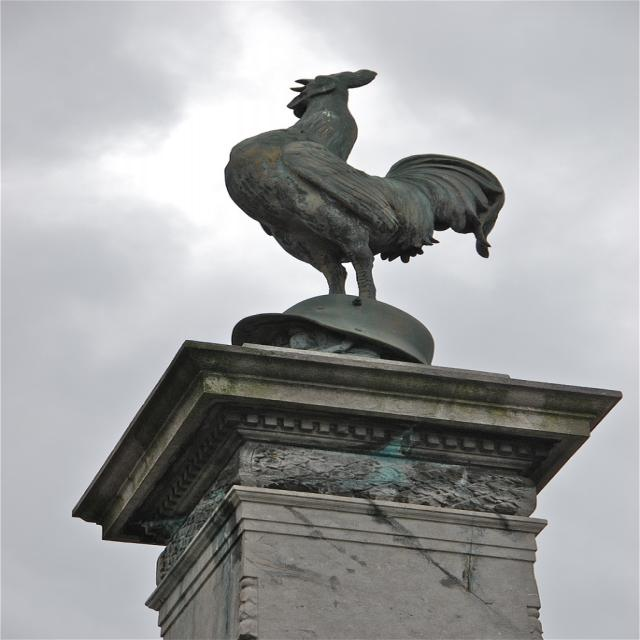Chicken: (245, 57, 518, 282)
